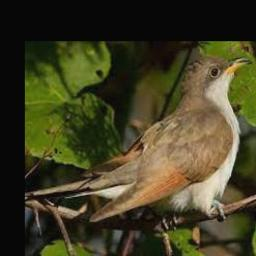Cuckoo: (66, 57, 252, 221)
